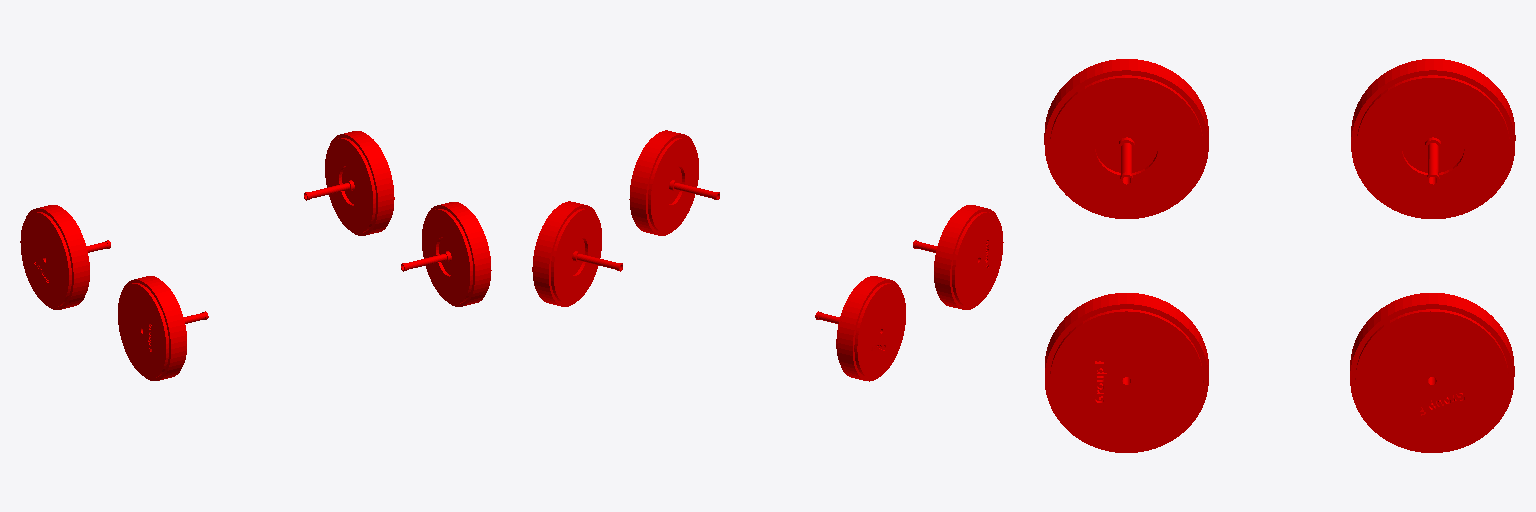
robot.urdf — prototype_urdf:
<?xml version="1.0" encoding="utf-8"?>
<!-- This URDF was automatically created by SolidWorks to URDF Exporter! Originally created by [author] ([email redacted]) 
     Commit Version: 1.5.1-0-g916b5db  Build Version: 1.5.7152.31018
     For more information, please see http://wiki.ros.org/sw_urdf_exporter -->
<robot
  name="prototype_urdf">
  <link
    name="base_link">
    <inertial>
      <origin
        xyz="-4.5523E-05 0.14559 -0.13975"
        rpy="0 0 0" />
      <mass
        value="5.4656" />
      <inertia
        ixx="0.012713"
        ixy="3.0137E-07"
        ixz="-0.00011104"
        iyy="0.073389"
        iyz="-1.185E-06"
        izz="0.068413" />
    </inertial>
    <visual>
      <origin
        xyz="0 0 0"
        rpy="0 0 0" />
      <geometry>
        <mesh
          filename="package://prototype_urdf/meshes/base_link.STL" />
      </geometry>
      <material
        name="">
        <color
          rgba="0.75294 0.75294 0.75294 1" />
      </material>
    </visual>
    <collision>
      <origin
        xyz="0 0 0"
        rpy="0 0 0" />
      <geometry>
        <mesh
          filename="package://prototype_urdf/meshes/base_link.STL" />
      </geometry>
    </collision>
  </link>
  <link
    name="suspension_front_left">
    <inertial>
      <origin
        xyz="-0.022238 0.0053253 0.057836"
        rpy="0 0 0" />
      <mass
        value="0.092965" />
      <inertia
        ixx="7.8332E-06"
        ixy="2.4021E-09"
        ixz="2.0772E-08"
        iyy="1.8337E-05"
        iyz="-7.1449E-07"
        izz="1.2259E-05" />
    </inertial>
    <visual>
      <origin
        xyz="0 0 0"
        rpy="0 0 0" />
      <geometry>
        <mesh
          filename="package://prototype_urdf/meshes/suspension_front_left.STL" />
      </geometry>
      <material
        name="">
        <color
          rgba="0.75294 0.75294 0.75294 1" />
      </material>
    </visual>
    <collision>
      <origin
        xyz="0 0 0"
        rpy="0 0 0" />
      <geometry>
        <mesh
          filename="package://prototype_urdf/meshes/suspension_front_left.STL" />
      </geometry>
    </collision>
  </link>
  <joint
    name="suspension_front_left"
    type="prismatic">
    <origin
      xyz="-0.16517 0.20237 0.13322"
      rpy="1.6863 -1.1874 -0.0018512" />
    <parent
      link="base_link" />
    <child
      link="suspension_front_left" />
    <axis
      xyz="0 0 0" />
    <limit
      lower="-0.04"
      upper="0"
      effort="1000"
      velocity="1000" />
    <dynamics
      damping="0"
      friction="0" />
  </joint>
  <link
    name="wheel_front_left">
    <inertial>
      <origin
        xyz="1.4086E-06 -0.087061 -3.1501E-05"
        rpy="0 0 0" />
      <mass
        value="0.0005833" />
      <inertia
        ixx="8.6958E-07"
        ixy="1.2157E-11"
        ixz="-1.9549E-11"
        iyy="1.6137E-06"
        iyz="-2.7388E-10"
        izz="8.6989E-07" />
    </inertial>
    <visual>
      <origin
        xyz="0 0 0"
        rpy="0 0 0" />
      <geometry>
        <mesh
          filename="package://prototype_urdf/meshes/wheel_front_left.STL" />
      </geometry>
      <material
        name="">
        <color
          rgba="1 0 0 1" />
      </material>
    </visual>
    <collision>
      <origin
        xyz="0 0 0"
        rpy="0 0 0" />
      <geometry>
        <mesh
          filename="package://prototype_urdf/meshes/wheel_front_left.STL" />
      </geometry>
    </collision>
  </link>
  <joint
    name="wheel_front_left"
    type="continuous">
    <origin
      xyz="-0.053094 -0.014583 0.060145"
      rpy="2.8335 1.2107 0.096305" />
    <parent
      link="suspension_front_left" />
    <child
      link="wheel_front_left" />
    <axis
      xyz="0 1 0" />
    <limit
      effort="3.1"
      velocity="7" />
  </joint>
  <link
    name="suspension_front_right">
    <inertial>
      <origin
        xyz="-0.022238 0.0053253 0.057836"
        rpy="0 0 0" />
      <mass
        value="0.092965" />
      <inertia
        ixx="7.8332E-06"
        ixy="2.402E-09"
        ixz="2.0772E-08"
        iyy="1.8337E-05"
        iyz="-7.1449E-07"
        izz="1.2259E-05" />
    </inertial>
    <visual>
      <origin
        xyz="0 0 0"
        rpy="0 0 0" />
      <geometry>
        <mesh
          filename="package://prototype_urdf/meshes/suspension_front_right.STL" />
      </geometry>
      <material
        name="">
        <color
          rgba="0.75294 0.75294 0.75294 1" />
      </material>
    </visual>
    <collision>
      <origin
        xyz="0 0 0"
        rpy="0 0 0" />
      <geometry>
        <mesh
          filename="package://prototype_urdf/meshes/suspension_front_right.STL" />
      </geometry>
    </collision>
  </link>
  <joint
    name="suspension_front_right"
    type="prismatic">
    <origin
      xyz="0.16284 0.20176 0.1322"
      rpy="-1.4553 -1.1874 3.1397" />
    <parent
      link="base_link" />
    <child
      link="suspension_front_right" />
    <axis
      xyz="0 0 0" />
    <limit
      lower="-0.04"
      upper="0"
      effort="1000"
      velocity="1000" />
    <dynamics
      damping="0"
      friction="0" />
  </joint>
  <link
    name="wheel_front_right">
    <inertial>
      <origin
        xyz="1.4086E-06 -0.089608 -3.1501E-05"
        rpy="0 0 0" />
      <mass
        value="0.0005833" />
      <inertia
        ixx="8.6958E-07"
        ixy="1.2157E-11"
        ixz="-1.9549E-11"
        iyy="1.6137E-06"
        iyz="-2.7388E-10"
        izz="8.6989E-07" />
    </inertial>
    <visual>
      <origin
        xyz="0 0 0"
        rpy="0 0 0" />
      <geometry>
        <mesh
          filename="package://prototype_urdf/meshes/wheel_front_right.STL" />
      </geometry>
      <material
        name="">
        <color
          rgba="1 0 0 1" />
      </material>
    </visual>
    <collision>
      <origin
        xyz="0 0 0"
        rpy="0 0 0" />
      <geometry>
        <mesh
          filename="package://prototype_urdf/meshes/wheel_front_right.STL" />
      </geometry>
    </collision>
  </link>
  <joint
    name="wheel_front_right"
    type="continuous">
    <origin
      xyz="-0.052142 0.02758 0.055255"
      rpy="-2.888 -1.1309 2.5256" />
    <parent
      link="suspension_front_right" />
    <child
      link="wheel_front_right" />
    <axis
      xyz="0 1 0" />
    <limit
      effort="3.1"
      velocity="7" />
  </joint>
  <link
    name="suspension_back_left">
    <inertial>
      <origin
        xyz="-0.022237 0.0053253 0.057836"
        rpy="0 0 0" />
      <mass
        value="0.092965" />
      <inertia
        ixx="7.8332E-06"
        ixy="2.4021E-09"
        ixz="2.0772E-08"
        iyy="1.8337E-05"
        iyz="-7.1449E-07"
        izz="1.2259E-05" />
    </inertial>
    <visual>
      <origin
        xyz="0 0 0"
        rpy="0 0 0" />
      <geometry>
        <mesh
          filename="package://prototype_urdf/meshes/suspension_back_left.STL" />
      </geometry>
      <material
        name="">
        <color
          rgba="0.75294 0.75294 0.75294 1" />
      </material>
    </visual>
    <collision>
      <origin
        xyz="0 0 0"
        rpy="0 0 0" />
      <geometry>
        <mesh
          filename="package://prototype_urdf/meshes/suspension_back_left.STL" />
      </geometry>
    </collision>
  </link>
  <joint
    name="suspension_back_left"
    type="prismatic">
    <origin
      xyz="-0.16528 -0.076934 0.13322"
      rpy="1.6863 -1.1874 0" />
    <parent
      link="base_link" />
    <child
      link="suspension_back_left" />
    <axis
      xyz="0 0 0" />
    <limit
      lower="-0.04"
      upper="0"
      effort="1000"
      velocity="1000" />
    <dynamics
      damping="0"
      friction="0" />
  </joint>
  <link
    name="wheel_back_left">
    <inertial>
      <origin
        xyz="1.4086E-06 -0.087061 -3.1501E-05"
        rpy="0 0 0" />
      <mass
        value="0.0005833" />
      <inertia
        ixx="8.6958E-07"
        ixy="1.2157E-11"
        ixz="-1.9549E-11"
        iyy="1.6137E-06"
        iyz="-2.7388E-10"
        izz="8.6989E-07" />
    </inertial>
    <visual>
      <origin
        xyz="0 0 0"
        rpy="0 0 0" />
      <geometry>
        <mesh
          filename="package://prototype_urdf/meshes/wheel_back_left.STL" />
      </geometry>
      <material
        name="">
        <color
          rgba="1 0 0 1" />
      </material>
    </visual>
    <collision>
      <origin
        xyz="0 0 0"
        rpy="0 0 0" />
      <geometry>
        <mesh
          filename="package://prototype_urdf/meshes/wheel_back_left.STL" />
      </geometry>
    </collision>
  </link>
  <joint
    name="wheel_back_left"
    type="continuous">
    <origin
      xyz="-0.053094 -0.014583 0.060145"
      rpy="0.10707 -0.017512 -2.7578" />
    <parent
      link="suspension_back_left" />
    <child
      link="wheel_back_left" />
    <axis
      xyz="0 1 0" />
    <limit
      effort="3.1"
      velocity="7" />
  </joint>
  <link
    name="suspension_back_right">
    <inertial>
      <origin
        xyz="-4.5523E-05 0.14559 -0.13975"
        rpy="0 0 0" />
      <mass
        value="5.4656" />
      <inertia
        ixx="0.012713"
        ixy="3.0137E-07"
        ixz="-0.00011104"
        iyy="0.073389"
        iyz="-1.185E-06"
        izz="0.068413" />
    </inertial>
    <visual>
      <origin
        xyz="0 0 0"
        rpy="0 0 0" />
      <geometry>
        <mesh
          filename="package://prototype_urdf/meshes/suspension_back_right.STL" />
      </geometry>
      <material
        name="">
        <color
          rgba="0.75294 0.75294 0.75294 1" />
      </material>
    </visual>
    <collision>
      <origin
        xyz="0 0 0"
        rpy="0 0 0" />
      <geometry>
        <mesh
          filename="package://prototype_urdf/meshes/suspension_back_right.STL" />
      </geometry>
    </collision>
  </link>
  <joint
    name="suspension_back_right"
    type="prismatic">
    <origin
      xyz="0.16273 -0.076934 0.1322"
      rpy="-1.4553 -1.1874 3.1416" />
    <parent
      link="base_link" />
    <child
      link="suspension_back_right" />
    <axis
      xyz="0 0 0" />
    <limit
      lower="-0.04"
      upper="0"
      effort="1000"
      velocity="1000" />
    <dynamics
      damping="0"
      friction="0" />
  </joint>
  <link
    name="wheel_back_right">
    <inertial>
      <origin
        xyz="1.4086E-06 -0.089579 -3.1501E-05"
        rpy="0 0 0" />
      <mass
        value="0.0005833" />
      <inertia
        ixx="8.6958E-07"
        ixy="1.2157E-11"
        ixz="-1.9549E-11"
        iyy="1.6137E-06"
        iyz="-2.7388E-10"
        izz="8.6989E-07" />
    </inertial>
    <visual>
      <origin
        xyz="0 0 0"
        rpy="0 0 0" />
      <geometry>
        <mesh
          filename="package://prototype_urdf/meshes/wheel_back_right.STL" />
      </geometry>
      <material
        name="">
        <color
          rgba="1 0 0 1" />
      </material>
    </visual>
    <collision>
      <origin
        xyz="0 0 0"
        rpy="0 0 0" />
      <geometry>
        <mesh
          filename="package://prototype_urdf/meshes/wheel_back_right.STL" />
      </geometry>
    </collision>
  </link>
  <joint
    name="wheel_back_right"
    type="continuous">
    <origin
      xyz="-0.052153 0.027553 0.055258"
      rpy="-0.10715 -0.043108 -0.38107" />
    <parent
      link="suspension_back_right" />
    <child
      link="wheel_back_right" />
    <axis
      xyz="0 1 0" />
    <limit
      effort="3.1"
      velocity="7" />
  </joint>
</robot>

--- What the picture shows (computed from the rendered views, not written in the file) ---
Views: 3 orthographic renders of the robot side by side, from view 1: azimuth 30°, elevation 25°; view 2: azimuth 150°, elevation 25°; view 3: azimuth 270°, elevation 25°.
Model prototype_urdf with 9 links and 8 joints (4 continuous, 4 prismatic), rooted at base_link, posed all joints at 0.
Links seen in each view (by area): view 1: wheel_back_left, wheel_back_right, wheel_front_left, wheel_front_right; view 2: wheel_front_left, wheel_front_right, wheel_back_right, wheel_back_left; view 3: wheel_front_right, wheel_back_left, wheel_front_left, wheel_back_right.
Boxes of the visible links, box(x1,y1,x2,y2) form: wheel_back_left: box(118, 276, 208, 380); wheel_back_right: box(401, 202, 491, 306); wheel_front_left: box(20, 205, 110, 309); wheel_front_right: box(304, 131, 394, 235); wheel_front_left: box(815, 276, 905, 381); wheel_front_right: box(532, 201, 622, 306); wheel_back_right: box(629, 130, 719, 235); wheel_back_left: box(913, 205, 1003, 309); wheel_front_right: box(1350, 293, 1514, 452); wheel_back_left: box(1044, 59, 1208, 218); wheel_front_left: box(1351, 59, 1515, 218); wheel_back_right: box(1045, 293, 1208, 452).
Size in the robot's own frame: 0.5398 by 0.4294 by 0.15 metres.
Meshes: 9 distinct files referenced, 4 mesh visuals loaded (4 binary STL); not drawn: 5 (reference not matched to a file when rendering).